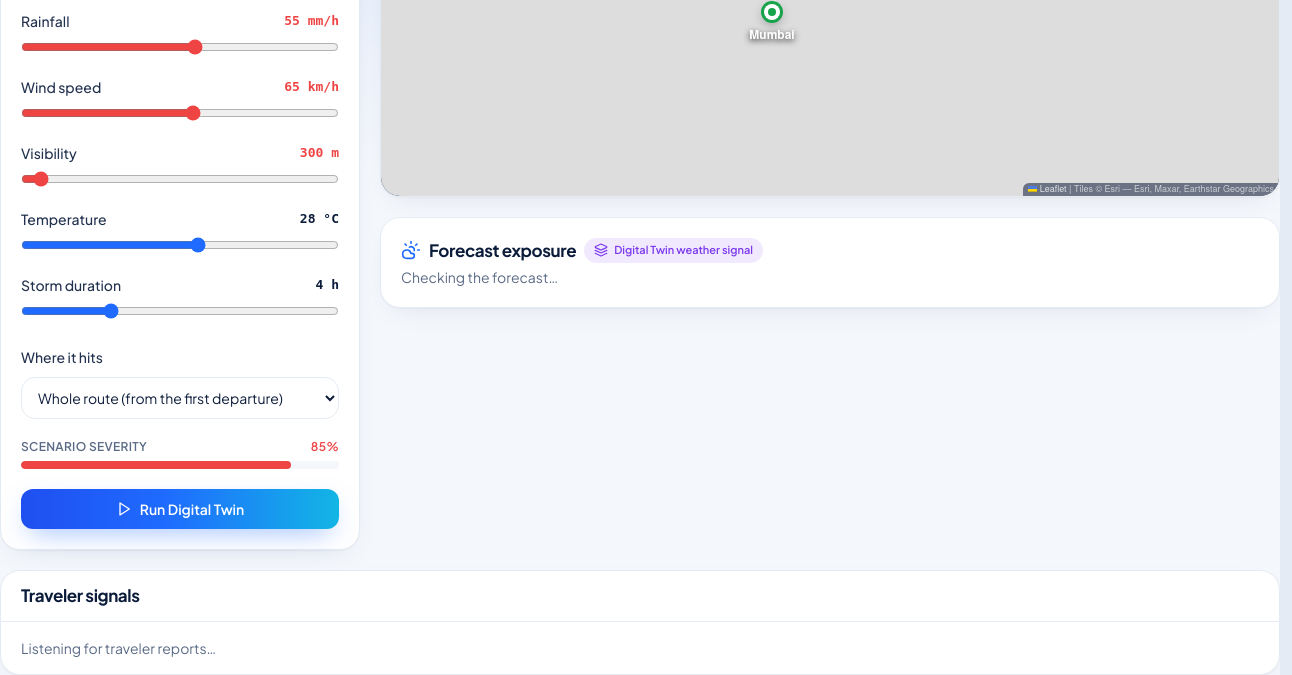
Scenario: DigitalTwinPage › blocks applying a weather plan while a disruption is active
(page scrolled)
Click the button "Run Digital Twin". click: (180, 509)
box: [21,489,339,529]
(page scrolled)
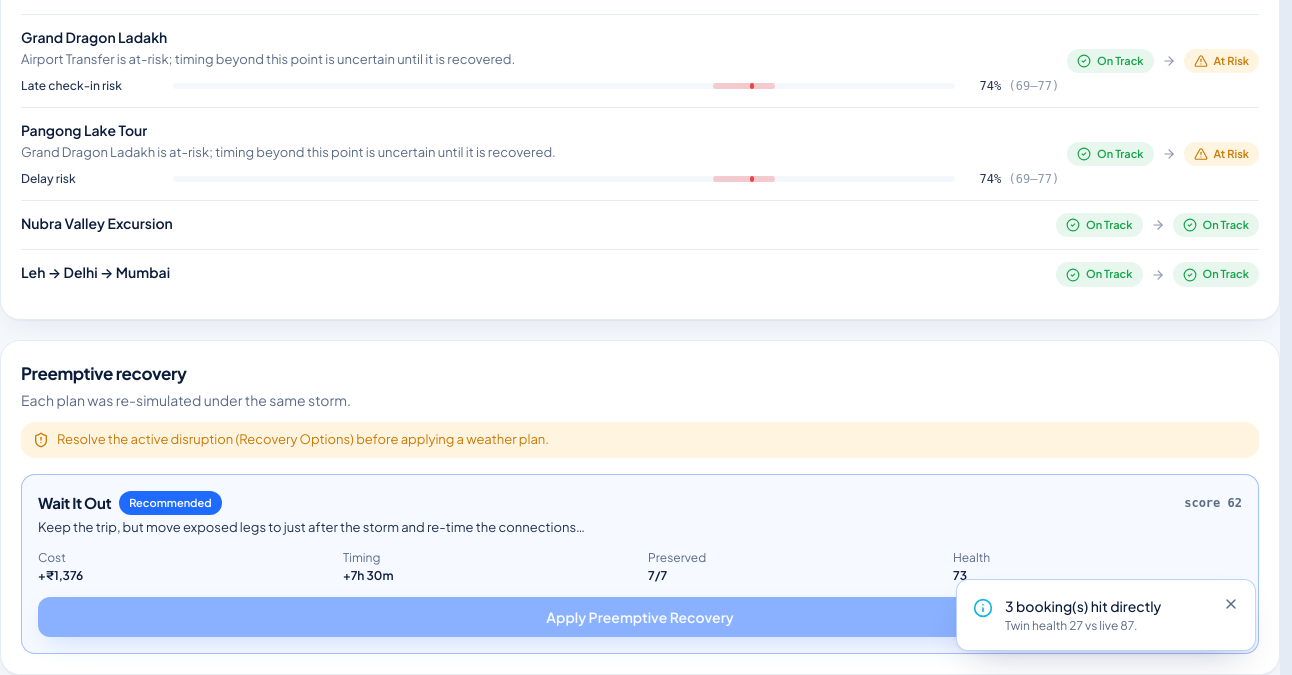
Result: the text "Resolve the active disruption" is shown at [57,431,549,447]
Result: the button "Apply Preemptive Recovery" is disabled at [38,597,1242,637]
